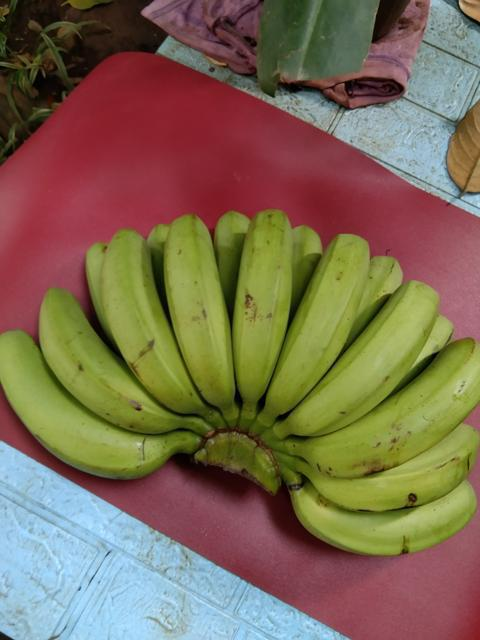freshunripe: (280, 269, 450, 440), (0, 332, 164, 479), (264, 226, 374, 420), (285, 473, 474, 559)
unripe: (290, 318, 479, 477), (40, 283, 171, 435), (96, 217, 200, 406), (154, 203, 238, 409), (220, 196, 302, 395)
